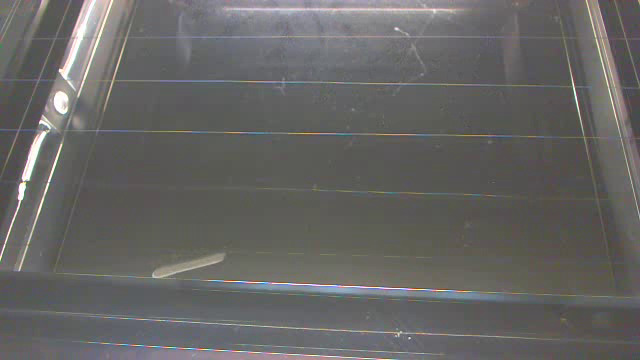alpha: (150, 251, 226, 279)
